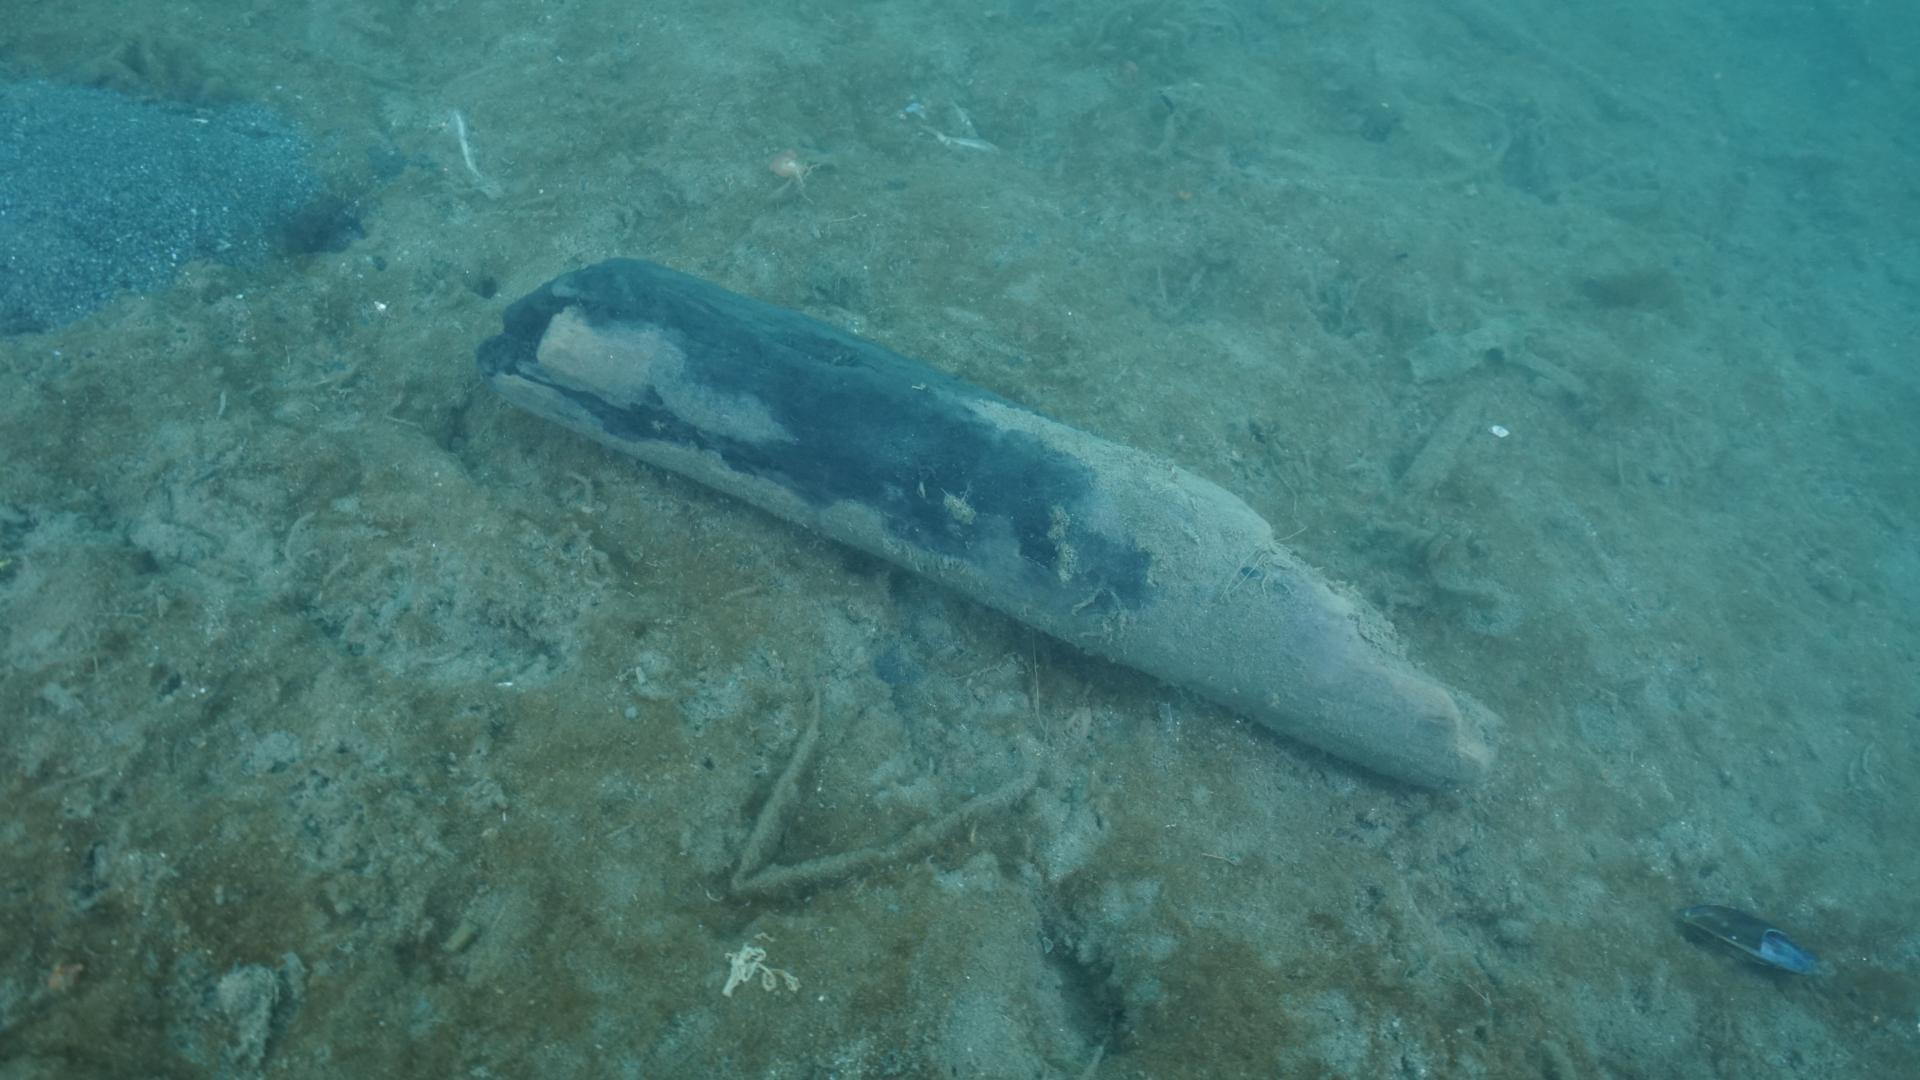wood: (472, 247, 1505, 811)
